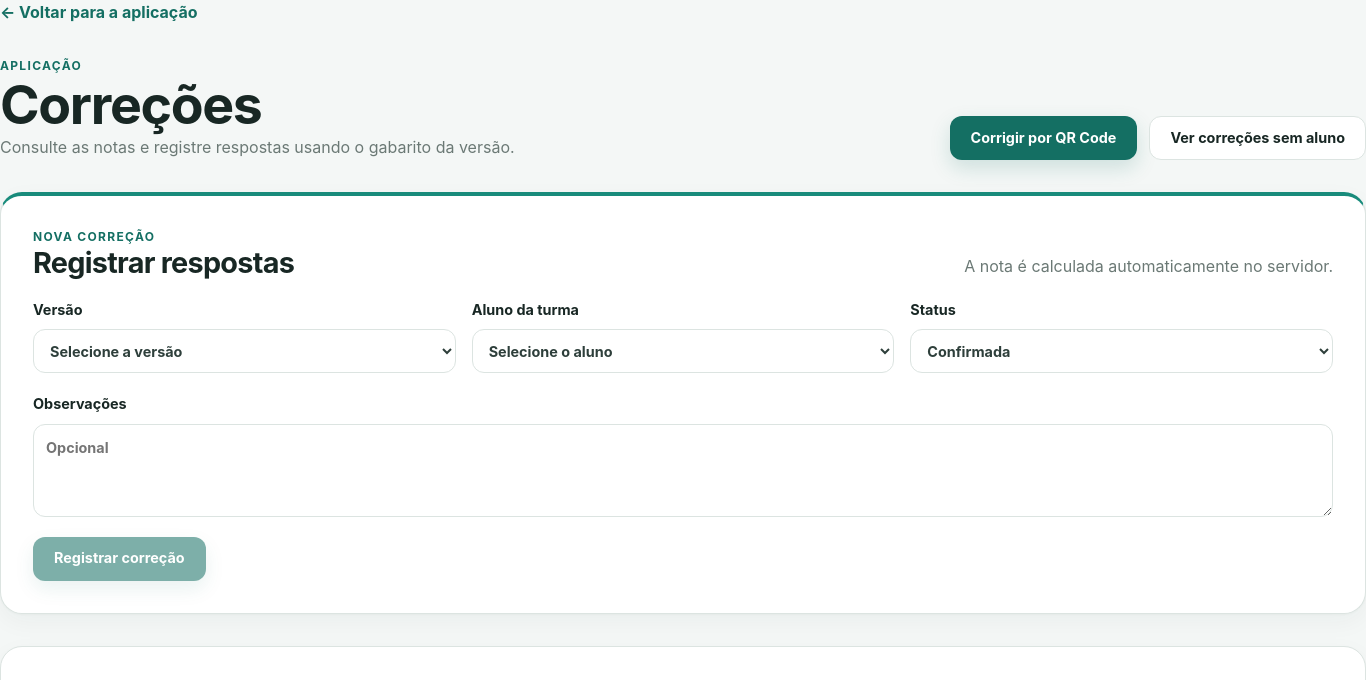
Test: tela de correcoes › permite resposta em branco e mostra erro do formulario
This screenshot has width=1366, height=680.
Select "Versão 1" in the dropdown with id "correction-version" at coordinates (244, 351), box [33,329,456,373]
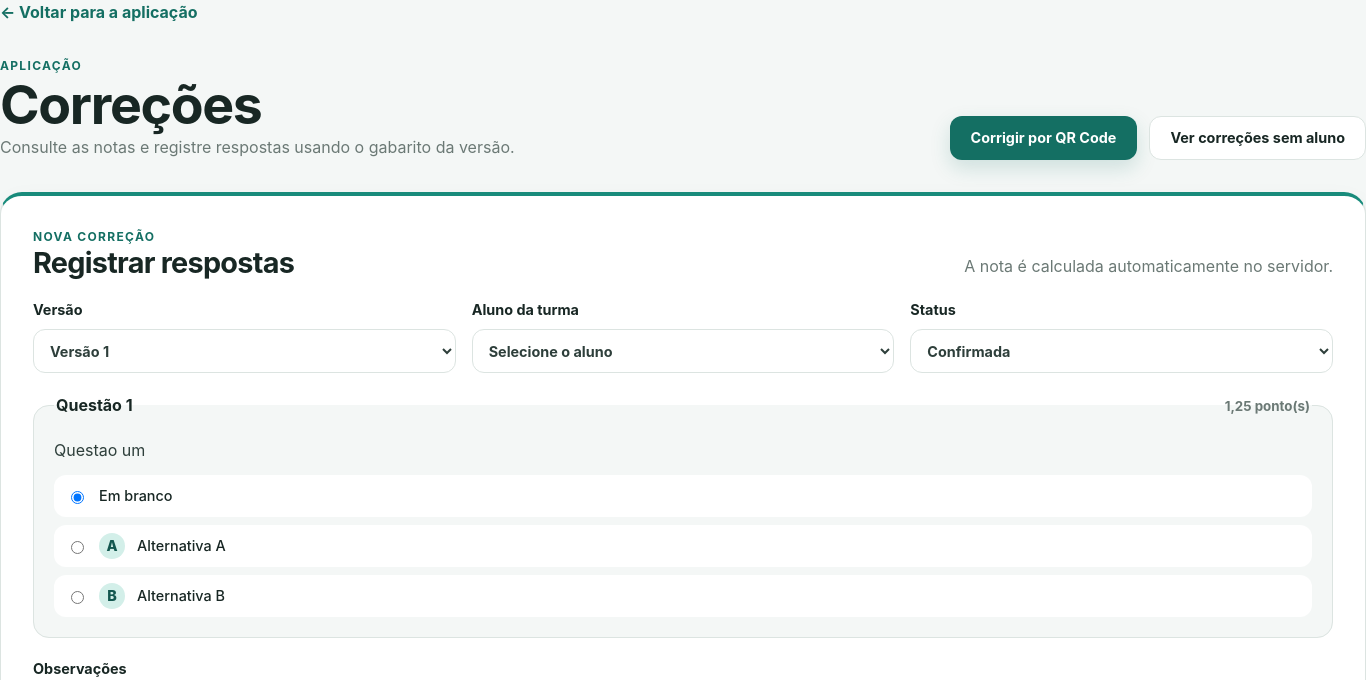
Select "Ana Souza — 20260042" in the dropdown with id "correction-student" at coordinates (683, 351), box [472,329,894,373]
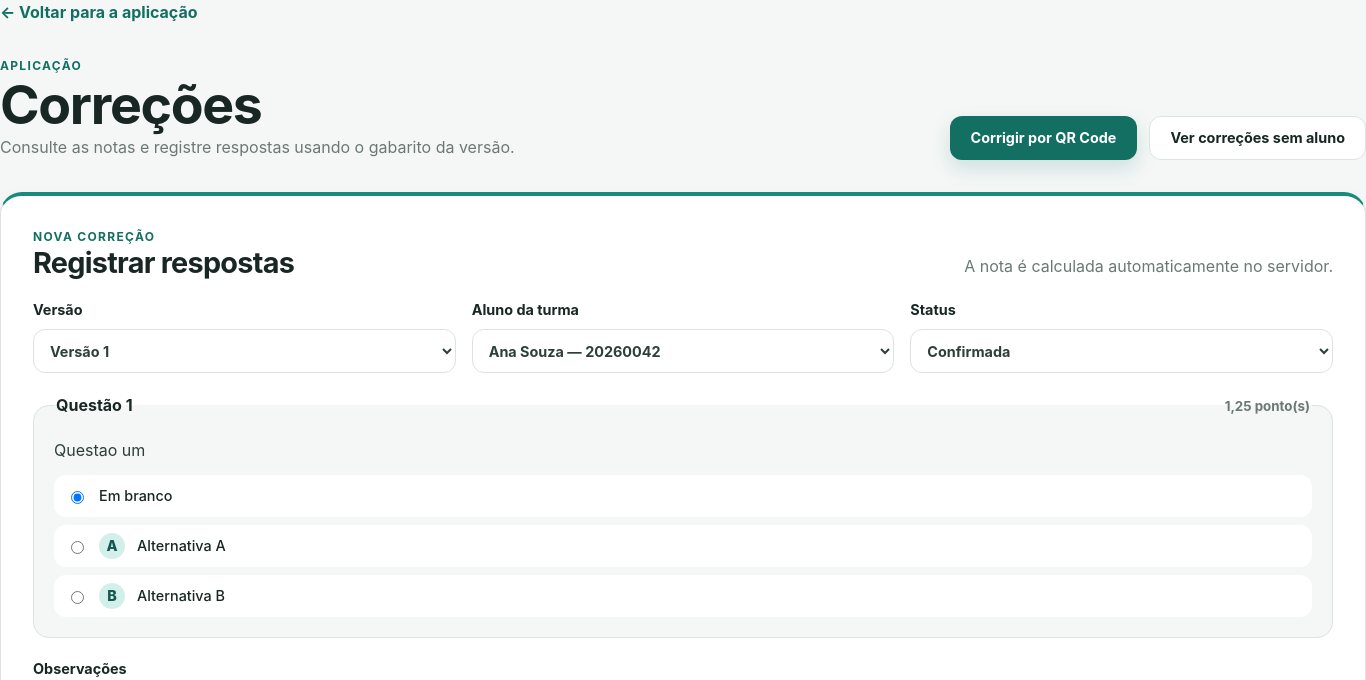
Click the radio button labelled "Em branco" at coordinates (78, 498), box [71,491,84,504]
(page scrolled)
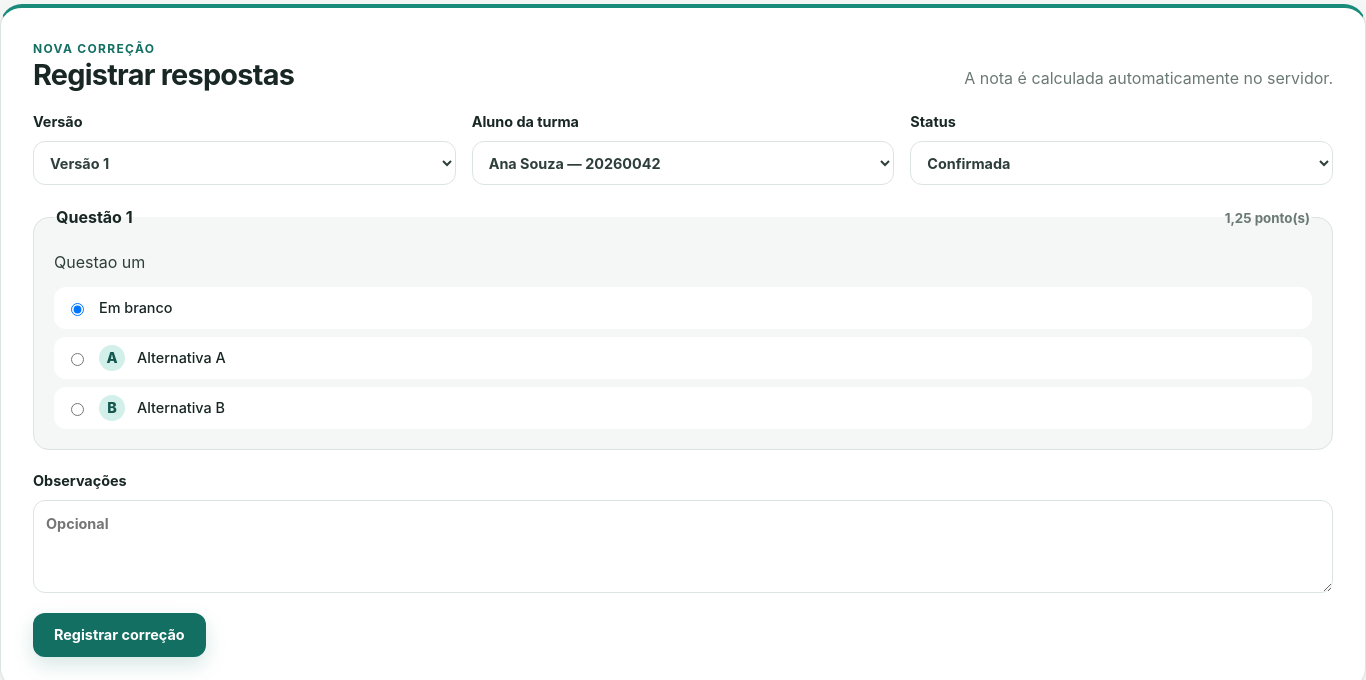
Submit the form with test id "correction-form"
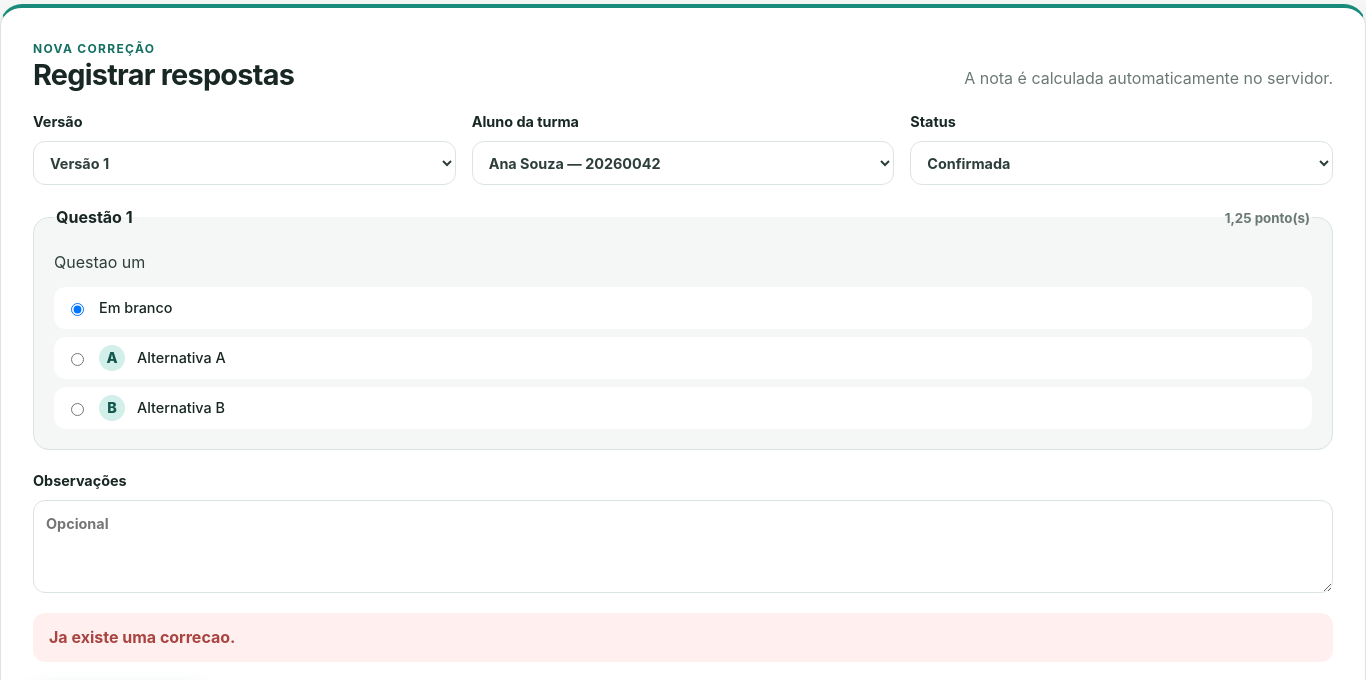
expect the message with test id "correction-form-error" shows "Ja existe": met, box [49,627,235,647]
